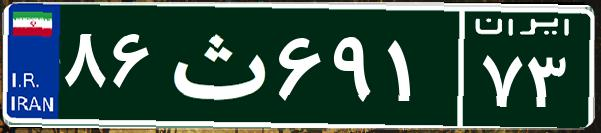1: (385, 28, 445, 110)
3: (525, 38, 570, 115)
6: (273, 28, 330, 110), (110, 28, 158, 105)
7: (475, 38, 525, 113)
8: (57, 26, 110, 107)
9: (330, 28, 385, 110)
ث: (158, 15, 273, 115)
